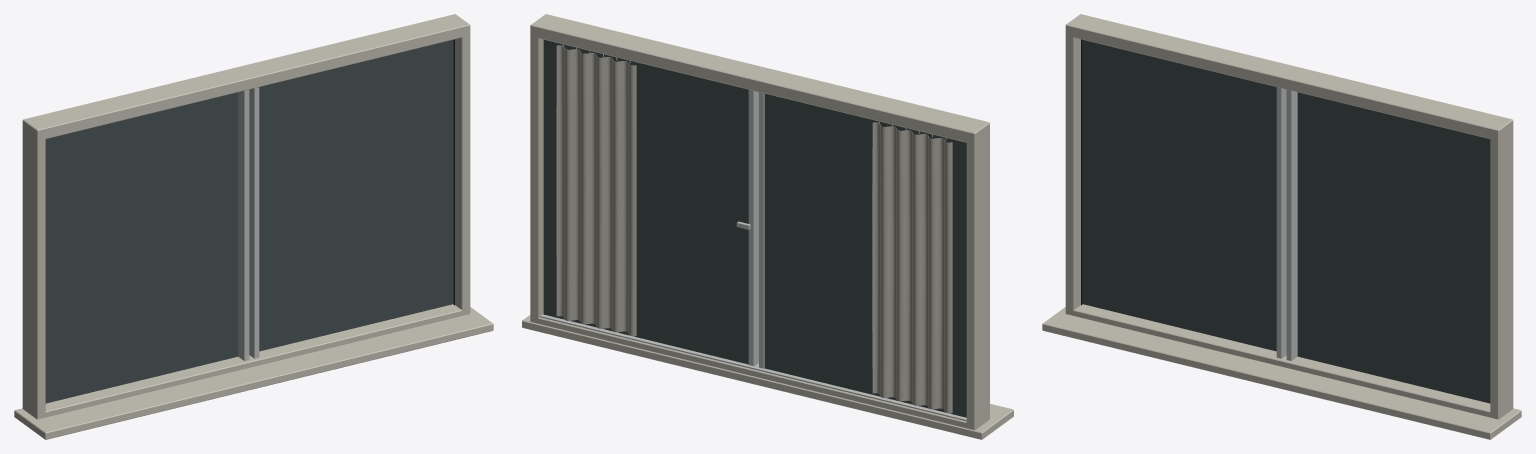
File: room_window_insert_016_v4.glb
3 views of the same model, side by side, from view 1: azimuth 30°, elevation 25°; view 2: azimuth 150°, elevation 25°; view 3: azimuth 330°, elevation 25° (orthographic). The views are drawn at different scales.
Visible parts, largest first — view 1: R101V3_opaque_pane_right, R101V3_opaque_pane_left, INSTANCE__room_window_insert__016, R101V3_slider_meeting_profile, R101V3_slider_meeting_profile.001, R101V3_glazing_gasket.001; view 2: R101V3_opaque_pane_right, R101V3_opaque_pane_left, INSTANCE__room_window_insert__016, R101V3_continuous_curtain_-1, R101V3_continuous_curtain_1, R101V3_slider_meeting_profile.001, R101V3_slider_meeting_profile, R101V3_sash_track; view 3: R101V3_opaque_pane_left, R101V3_opaque_pane_right, INSTANCE__room_window_insert__016, R101V3_slider_meeting_profile.001, R101V3_slider_meeting_profile, R101V3_glazing_gasket.
Boxes of the visible parts, box(x1,y1,x2,y2) form: R101V3_opaque_pane_right: box(259, 39, 453, 351); R101V3_opaque_pane_left: box(45, 92, 238, 403); INSTANCE__room_window_insert__016: box(14, 14, 493, 439); R101V3_slider_meeting_profile: box(238, 89, 249, 360); R101V3_slider_meeting_profile.001: box(249, 87, 259, 358); R101V3_glazing_gasket.001: box(453, 39, 454, 305); R101V3_opaque_pane_right: box(543, 40, 748, 364); R101V3_opaque_pane_left: box(764, 94, 966, 417); INSTANCE__room_window_insert__016: box(522, 14, 1013, 439); R101V3_continuous_curtain_-1: box(872, 122, 952, 413); R101V3_continuous_curtain_1: box(556, 45, 636, 336); R101V3_slider_meeting_profile.001: box(748, 90, 758, 366); R101V3_slider_meeting_profile: box(759, 92, 764, 368); R101V3_sash_track: box(540, 314, 966, 421); R101V3_opaque_pane_left: box(1082, 39, 1276, 351); R101V3_opaque_pane_right: box(1297, 92, 1490, 403); INSTANCE__room_window_insert__016: box(1042, 14, 1521, 439); R101V3_slider_meeting_profile.001: box(1286, 89, 1297, 360); R101V3_slider_meeting_profile: box(1276, 87, 1286, 358); R101V3_glazing_gasket: box(1081, 39, 1082, 305).
Size of the model in its own units: 2.07 by 1.31 by 0.25.
Materials: 5 (1 with a texture image).
